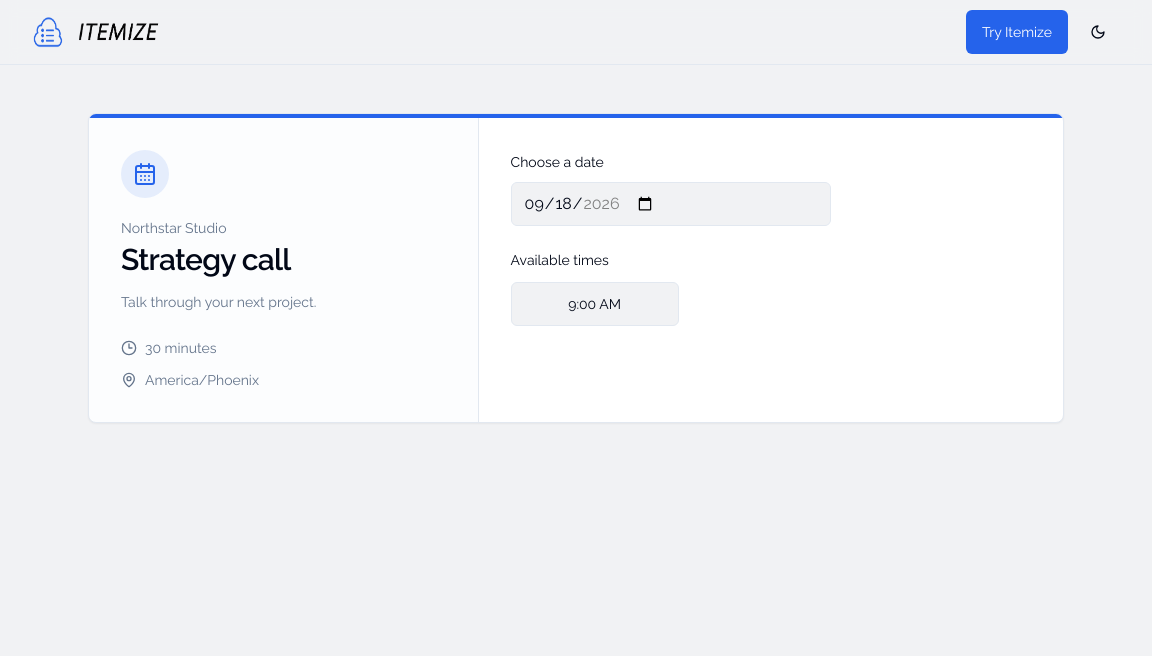
Test: PublicBookingPage › submits attendee details for the explicitly selected slot
This screenshot has width=1152, height=656.
Click the button "9:00 AM" at x=595, y=304, box [511,282,679,326]
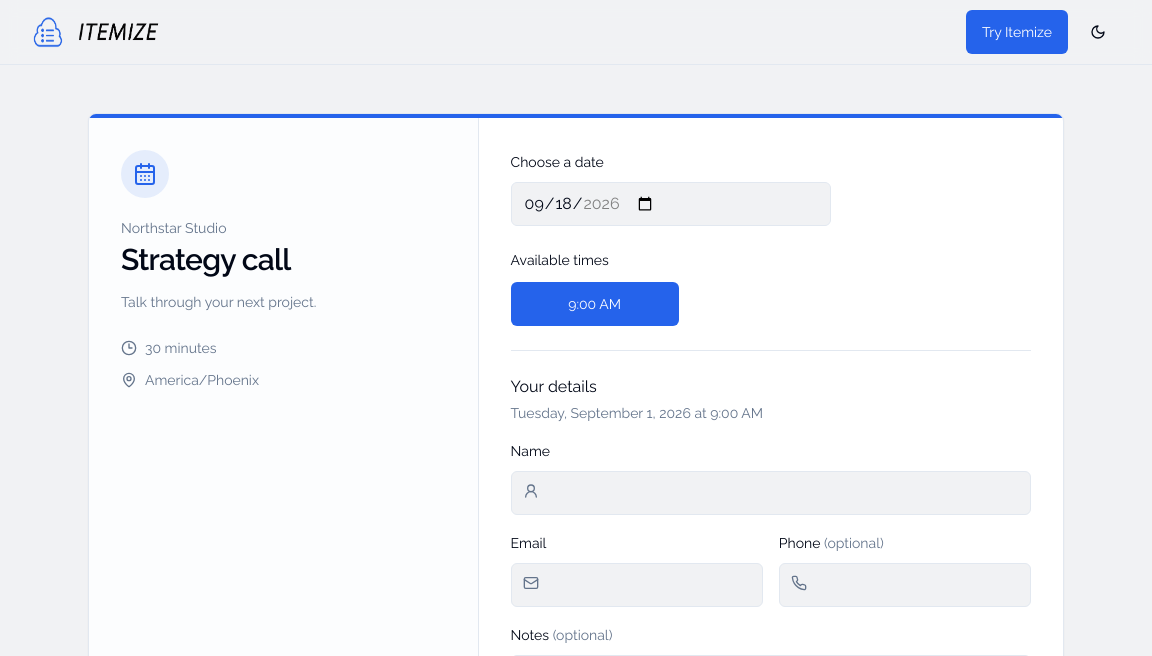
Type "Maya Patel" into the field labelled "Name" at x=771, y=493, box [511,471,1031,515]
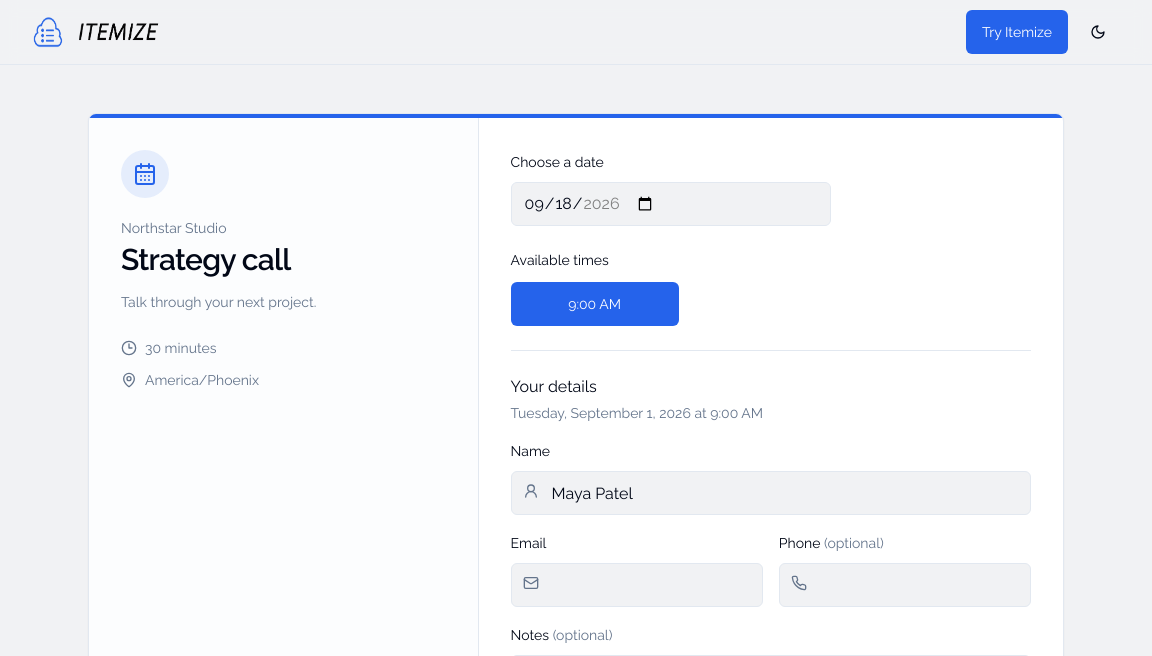
Type "maya@example.com" into the field labelled "Email" at x=637, y=585, box [511,563,763,607]
(page scrolled)
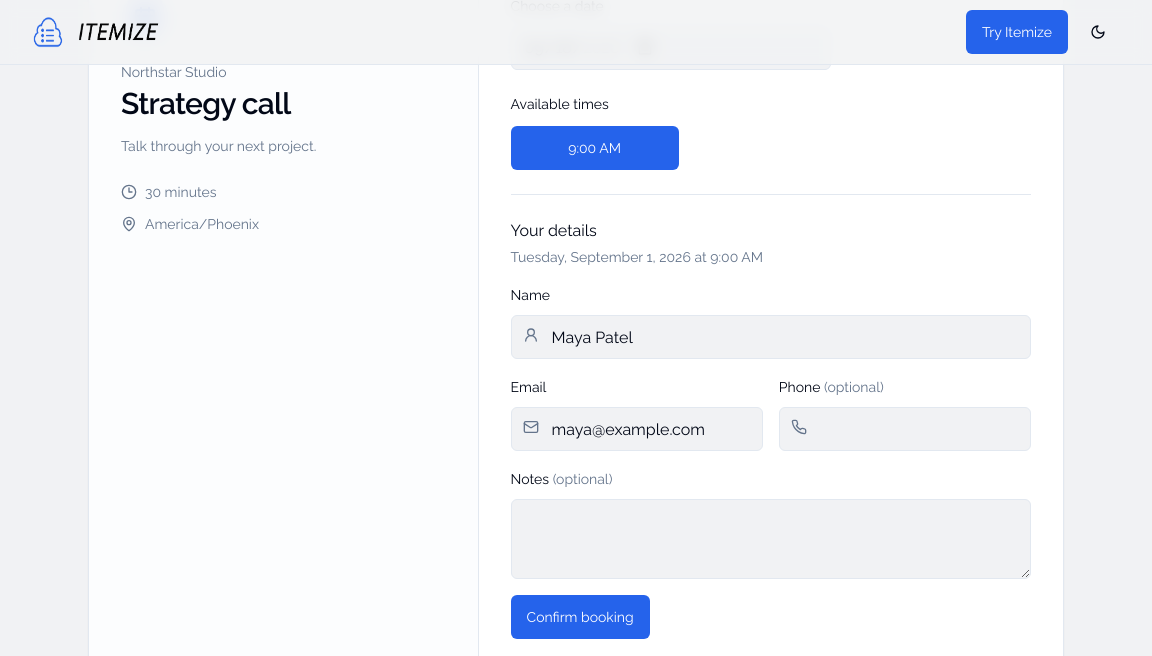
Click the button "Confirm booking" at x=580, y=617, box [511,595,650,639]
(page scrolled)
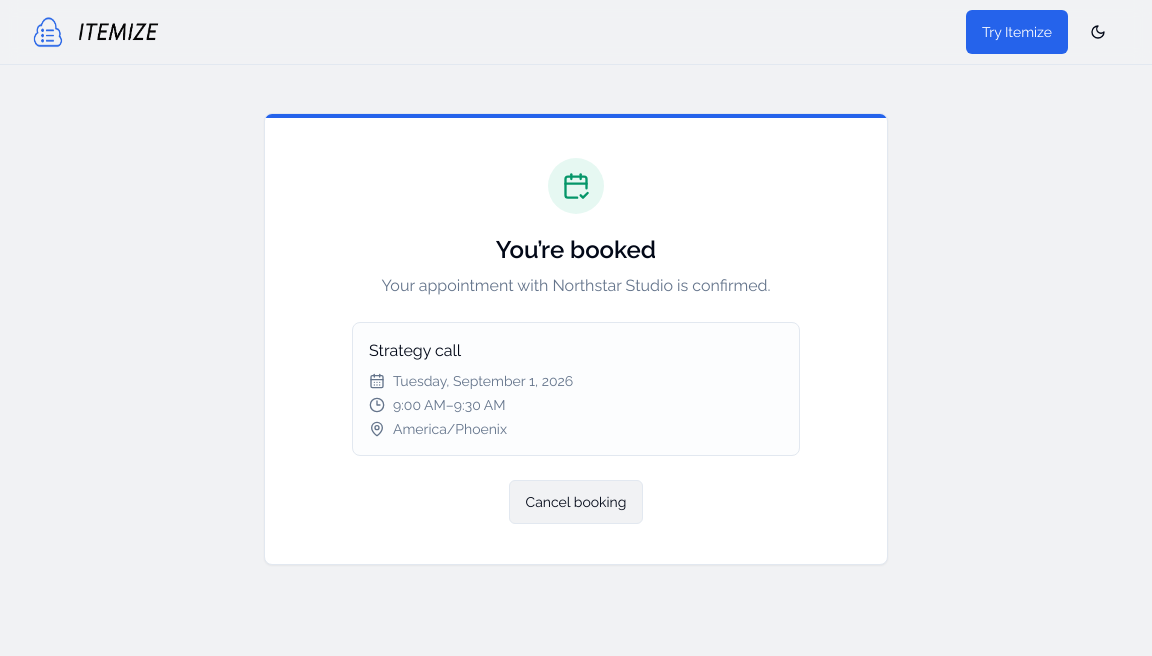
Now the heading "You’re booked" is shown, box [496,235,656,264]
